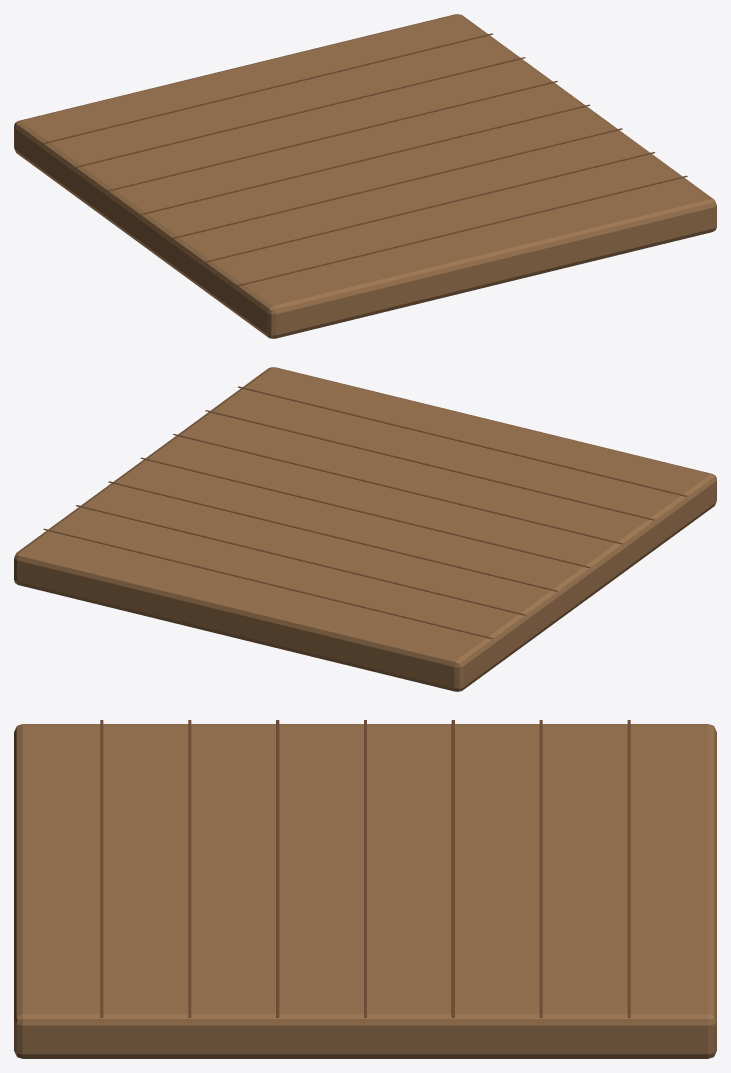
The model's file is floor_tile_2m.glb.
3 views of the same model, one above another, from view 1: azimuth 30°, elevation 25°; view 2: azimuth 150°, elevation 25°; view 3: azimuth 270°, elevation 25° (orthographic). The views are drawn at different scales.
Visible parts, largest first — view 1: floor_tile_2m; view 2: floor_tile_2m; view 3: floor_tile_2m.
Boxes of the visible parts, <box> form: floor_tile_2m: <box>14,14,716,338</box>; floor_tile_2m: <box>14,367,716,691</box>; floor_tile_2m: <box>14,720,716,1058</box>.
Bounding box in the file's own units: 2 × 0.142 × 2.
